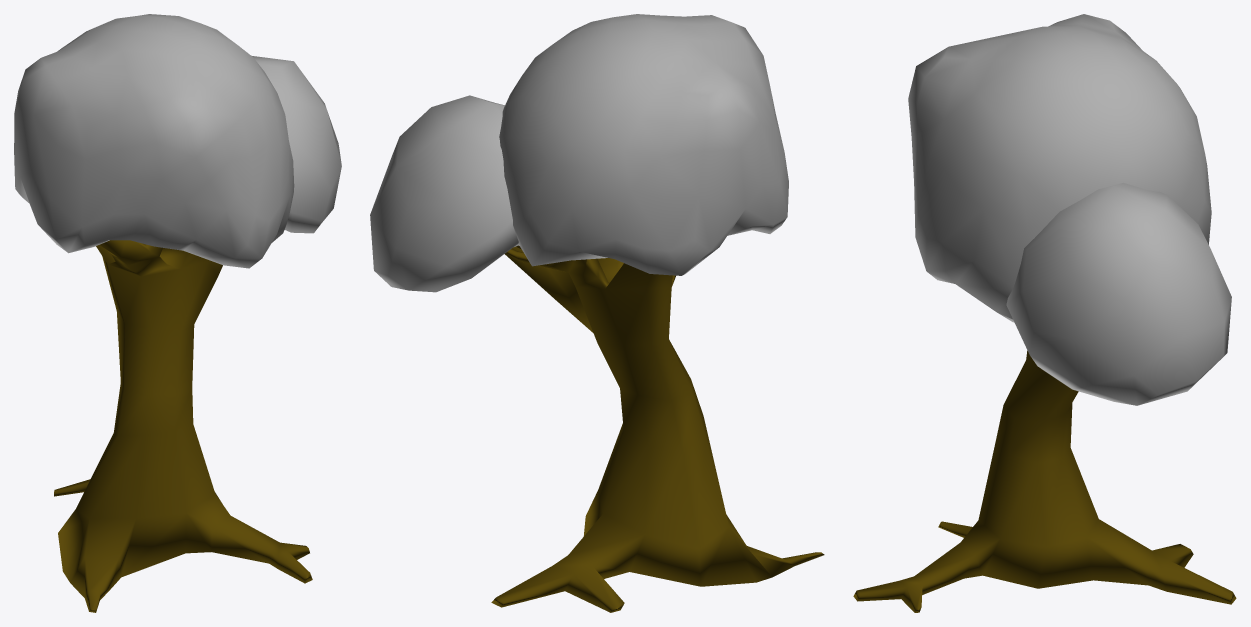
The model's file is tree2Export.fbx.
3 renders of one model, left to right at view 1: azimuth 30°, elevation 25°; view 2: azimuth 150°, elevation 25°; view 3: azimuth 270°, elevation 25°, orthographic. The views are drawn at different scales.
Visible parts, largest first — view 1: leaf1, trunk_mesh2, leaf2; view 2: leaf1, trunk_mesh2, leaf2; view 3: leaf1, leaf2, trunk_mesh2.
Part boxes in pixels (left/top/right/bottom): leaf1: left=14, top=14, right=294, bottom=268; trunk_mesh2: left=54, top=240, right=312, bottom=612; leaf2: left=251, top=55, right=341, bottom=233; leaf1: left=499, top=14, right=788, bottom=275; trunk_mesh2: left=491, top=245, right=824, bottom=612; leaf2: left=370, top=95, right=518, bottom=292; leaf1: left=908, top=14, right=1211, bottom=322; leaf2: left=1006, top=182, right=1231, bottom=405; trunk_mesh2: left=853, top=350, right=1236, bottom=612.
Size of the model in its own units: 2532 by 3789 by 2390.
